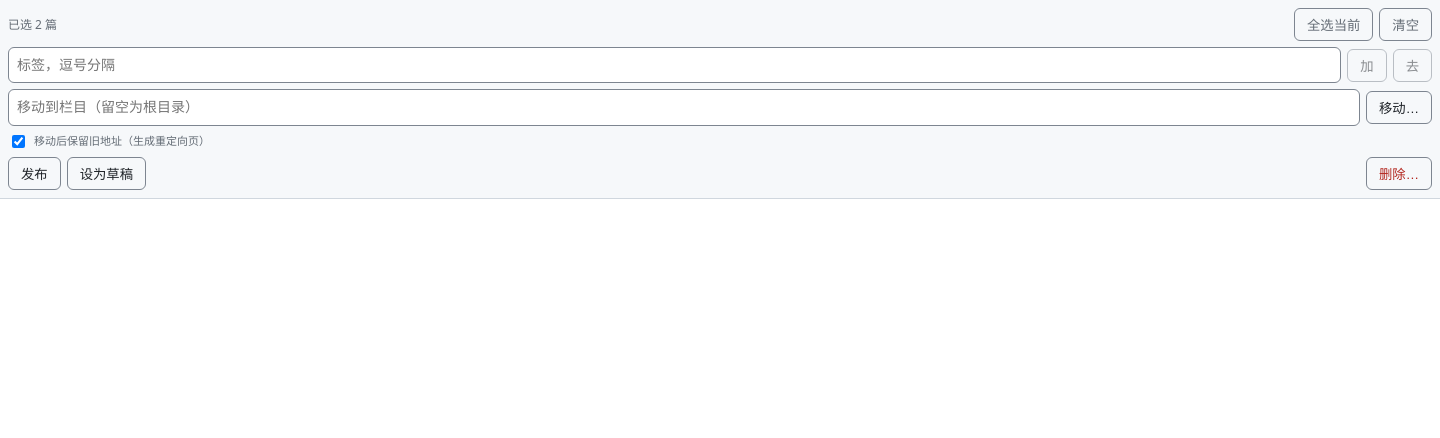
Test: BatchBar › 移动先干跑：清单要说清哪几篇会动、哪几篇不动，以及会改别人文件里的链接
In the field named "目标栏目": (684, 108) [8, 89, 1360, 126], type "notes"
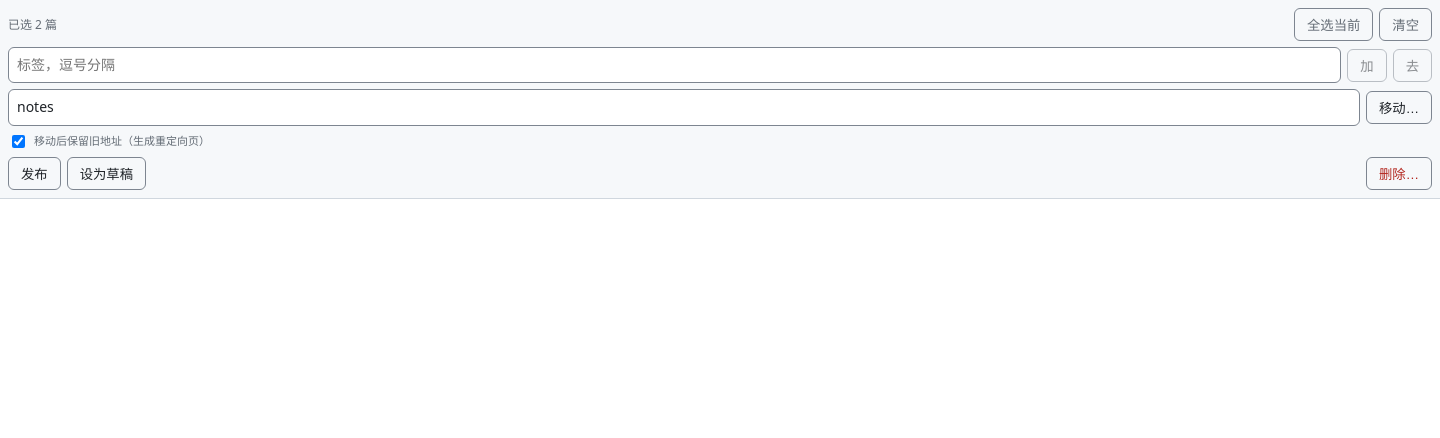
Click the button "移动…": (1399, 108) [1366, 91, 1432, 124]
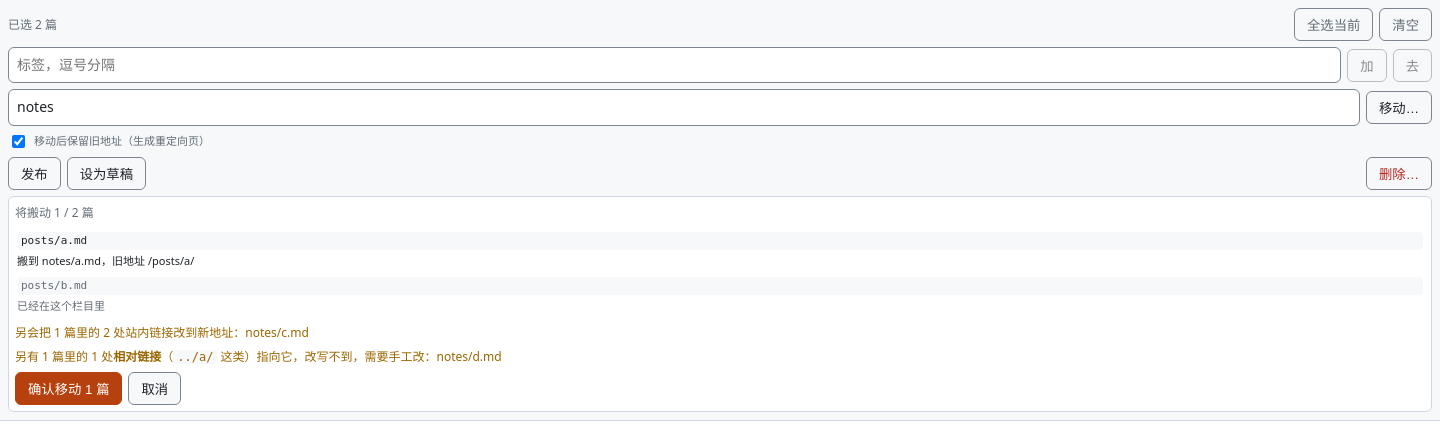
Check: the element that starts with "将搬动 1 / 2 篇" is shown, box [15, 204, 94, 221]
Check: the element that starts with "将搬动 1 / 2 篇" shows "旧地址 /posts/a/", box [17, 253, 194, 268]
Check: the number of list items with class "skip" is 1, box [15, 273, 1425, 318]
